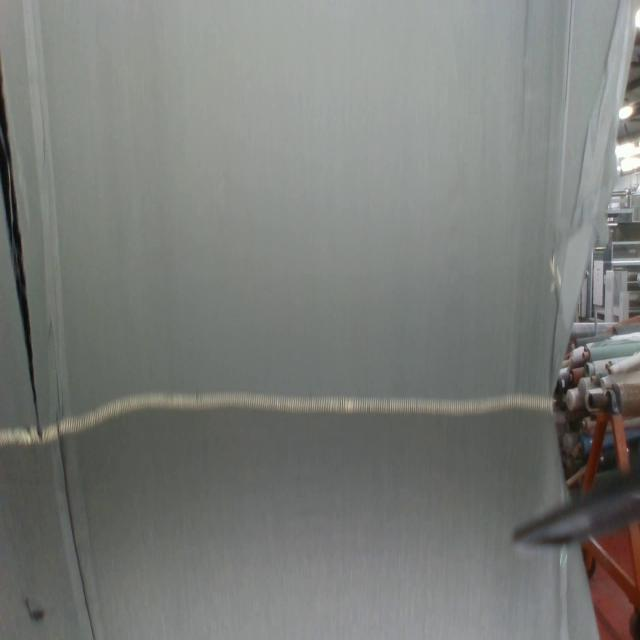crease: (23, 1, 73, 426), (58, 433, 95, 640), (557, 2, 576, 220)
hole: (0, 56, 42, 432), (22, 595, 46, 627)
